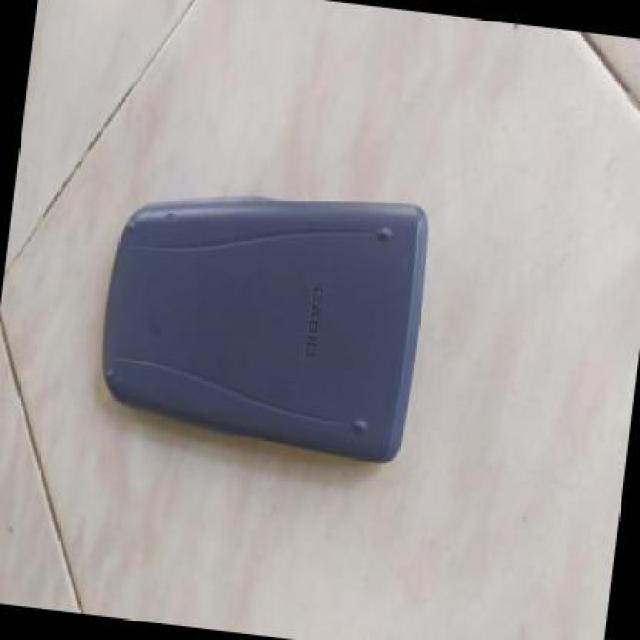Calculator: (77, 142, 452, 480)
